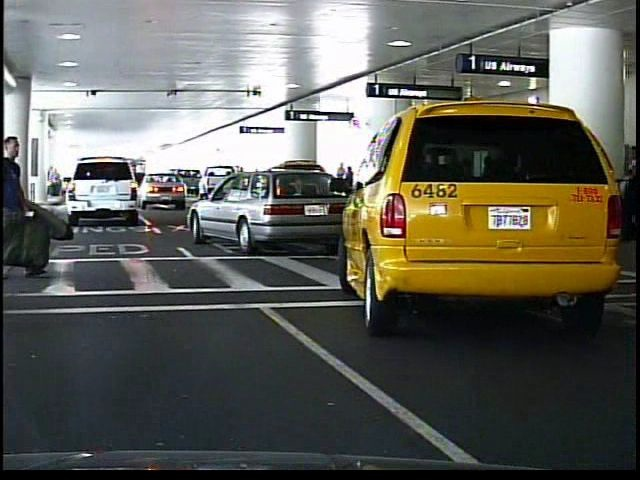person: (333, 162, 345, 198), (345, 164, 353, 180)
